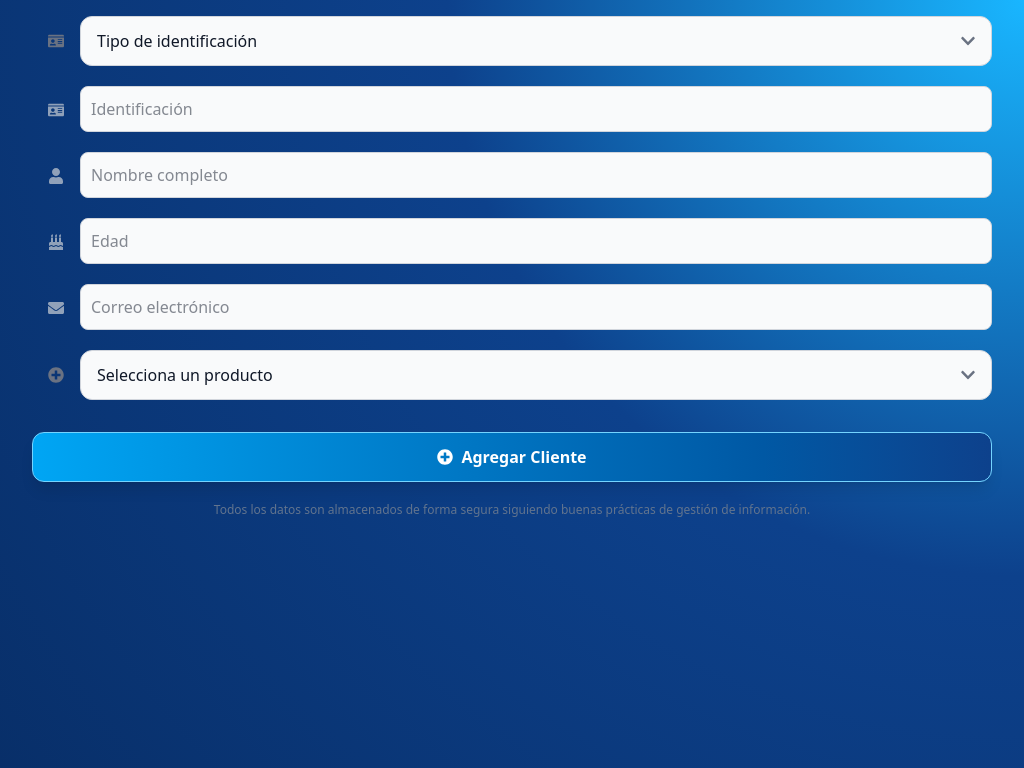
Test: TaskForm Component › shows validation errors for invalid input
The image size is (1024, 768).
Step 1. Type "12345678" into the field with placeholder "Identificación" → (536, 109), box [80,86,992,132]
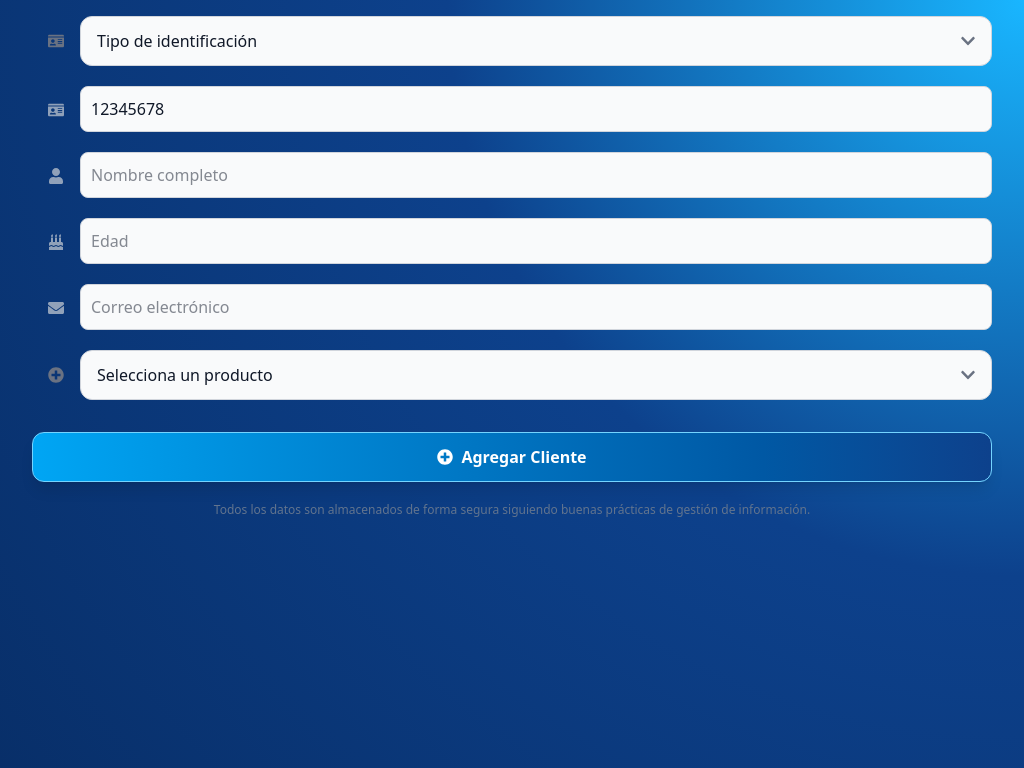
Step 2. Type "Juan Perez" into the field with placeholder "Nombre completo" → (536, 175), box [80,152,992,198]
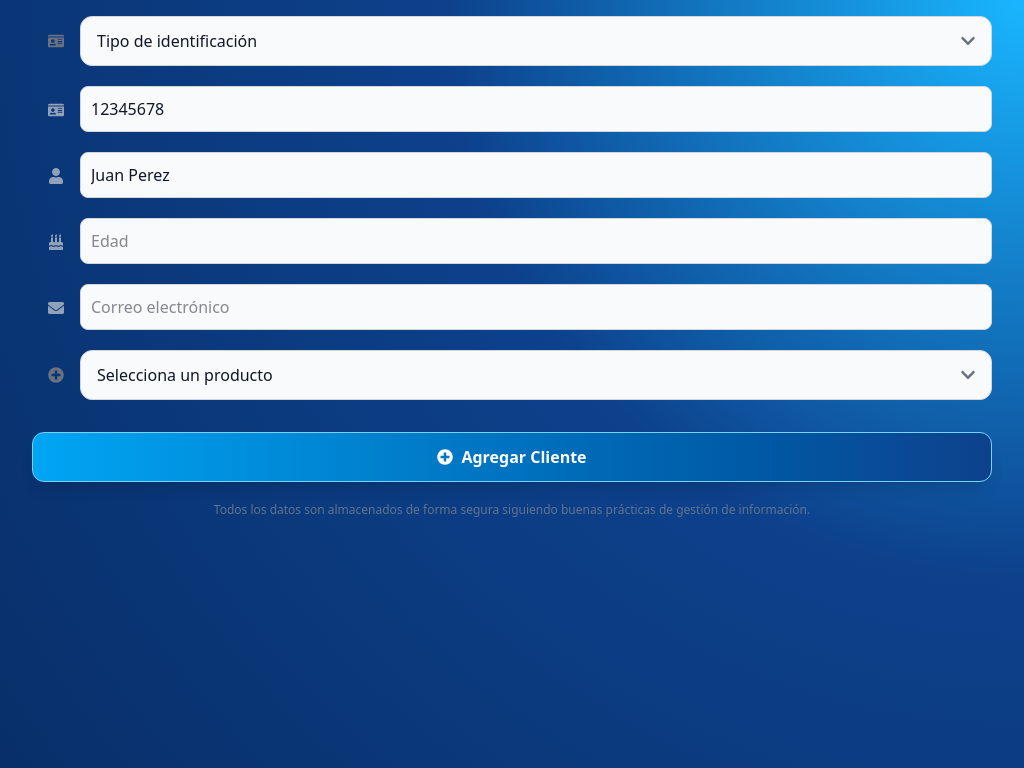
Step 3. Type "32" into the number field with placeholder "Edad" → (536, 241), box [80,218,992,264]
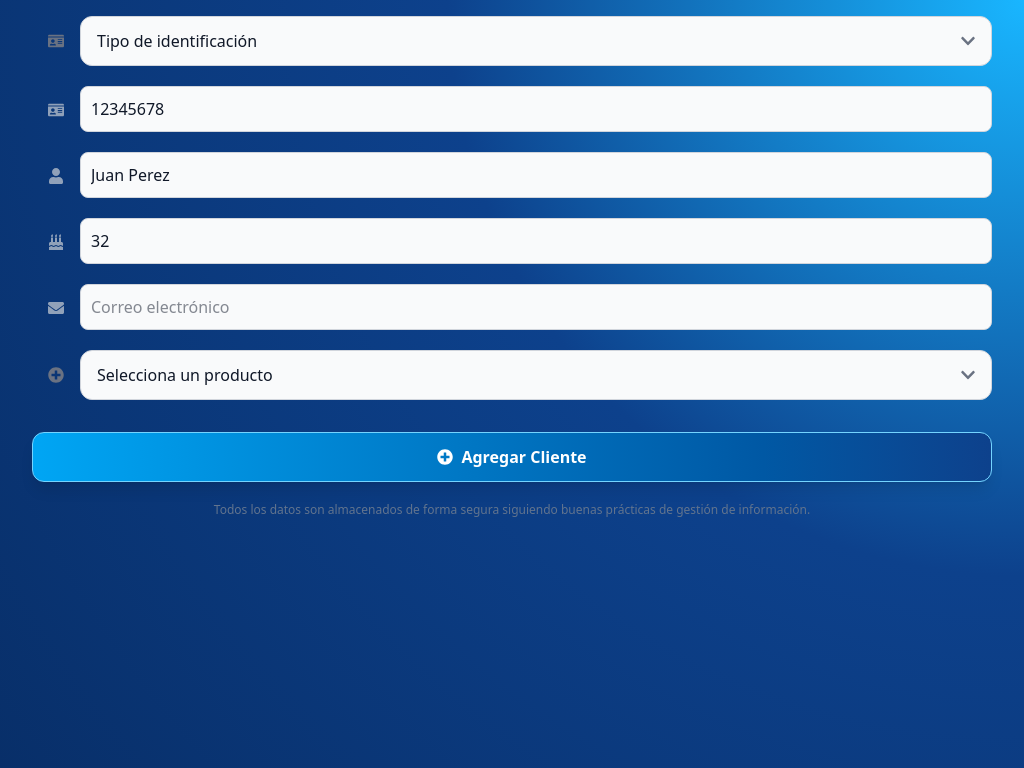
Step 4. Type "juan.perez@correo.com" into the field with placeholder "Correo electrónico" → (536, 307), box [80,284,992,330]
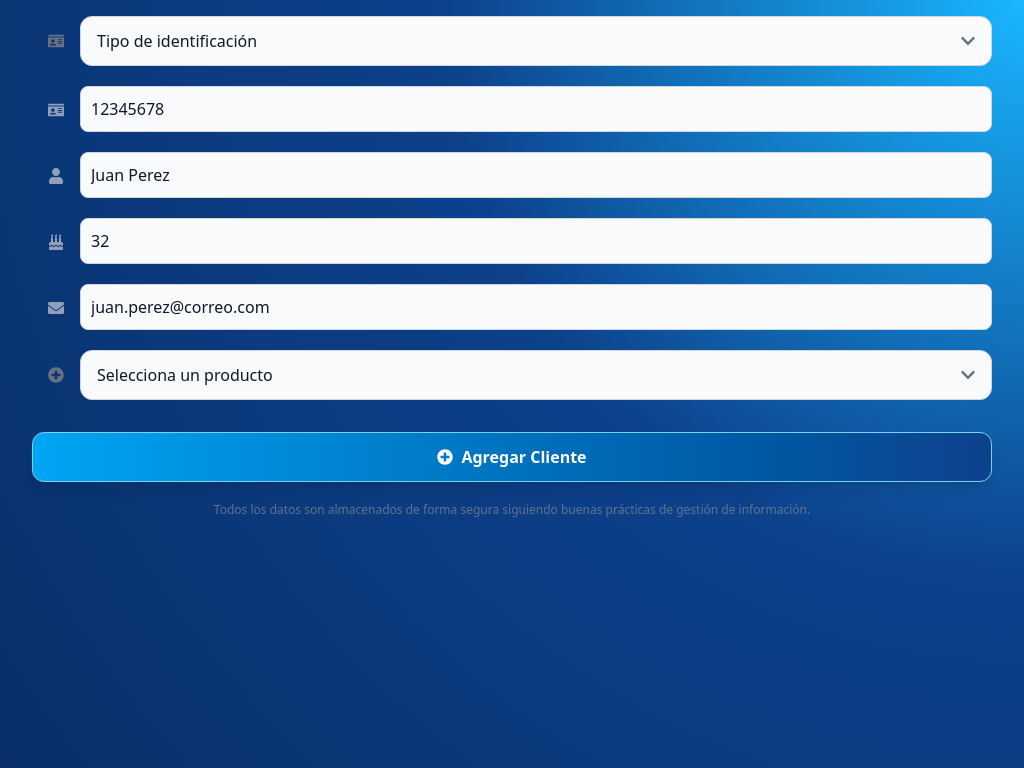
Step 5. Submit the form from the button "Agregar Cliente", box [32,432,992,482]
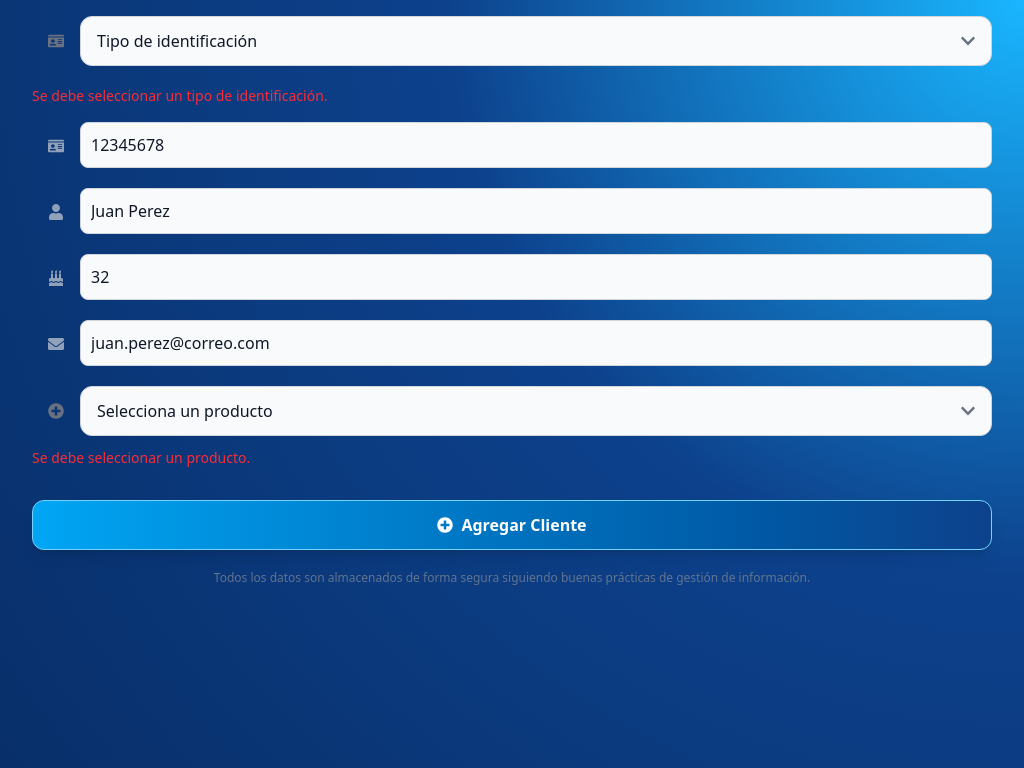
Result: the text "Se debe seleccionar un tipo de identificación." is shown at [32,86,328,105]
Result: the text "Se debe seleccionar un producto." is shown at [32,448,250,467]
